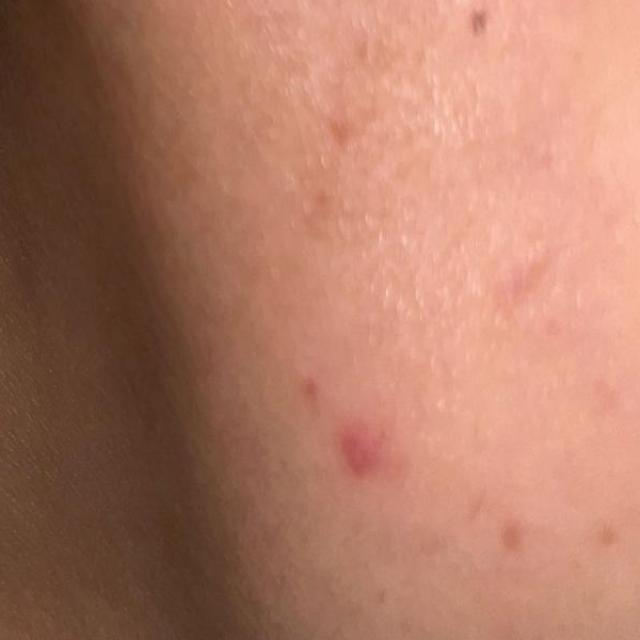papule: (267, 345, 415, 520)
